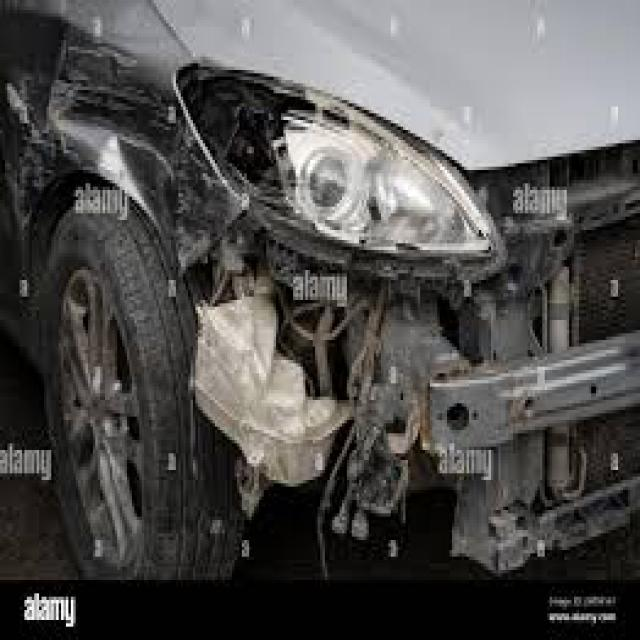damaged-head-light: (181, 65, 492, 250)
